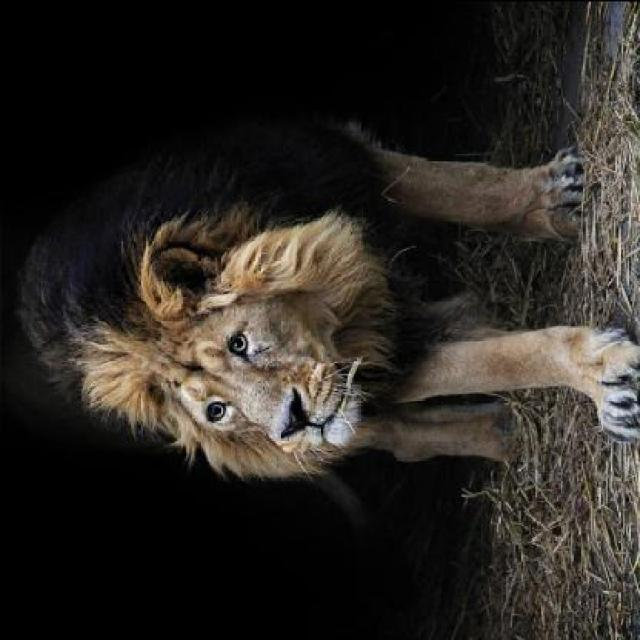Lion: (27, 96, 638, 542)
